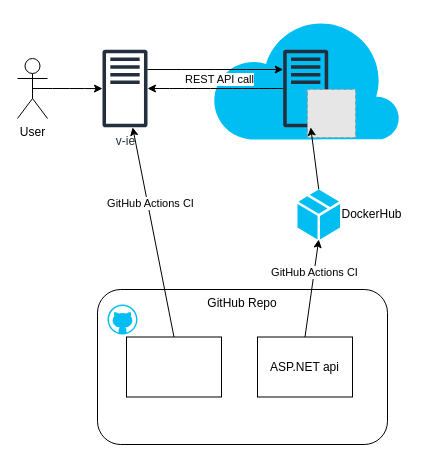
Image size: 429x462. Some labels were removed from this diagram. Grey dashed boxes stand in for pictures. The shapes that lost their labels are listed below. From the top down, each one's box as (x1, y1, x2, y2) in pixels, then its label:
(283, 49, 328, 127): Azure virtual machine
(126, 336, 222, 397): Frontend
